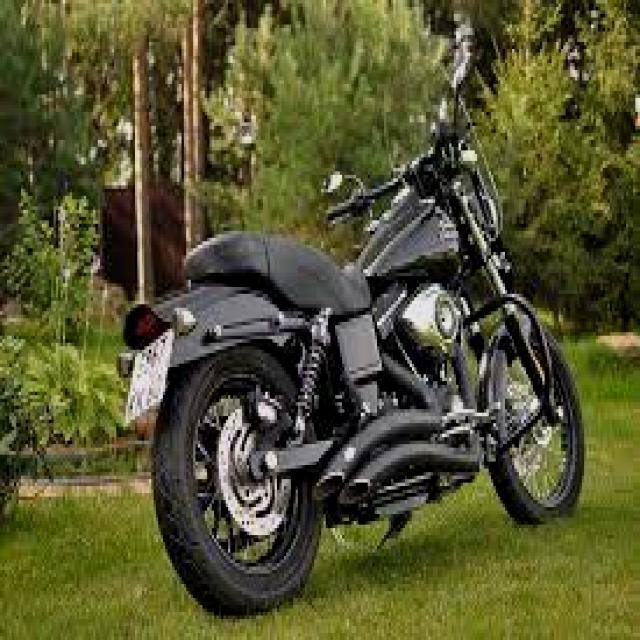MOTORCYCLE: (130, 158, 576, 619)
